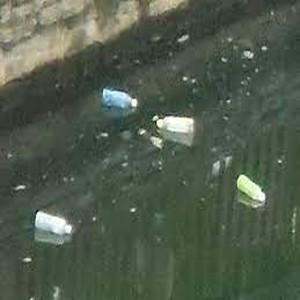Plastic: (33, 207, 75, 240), (236, 169, 268, 209), (95, 86, 140, 112), (156, 113, 194, 138)
